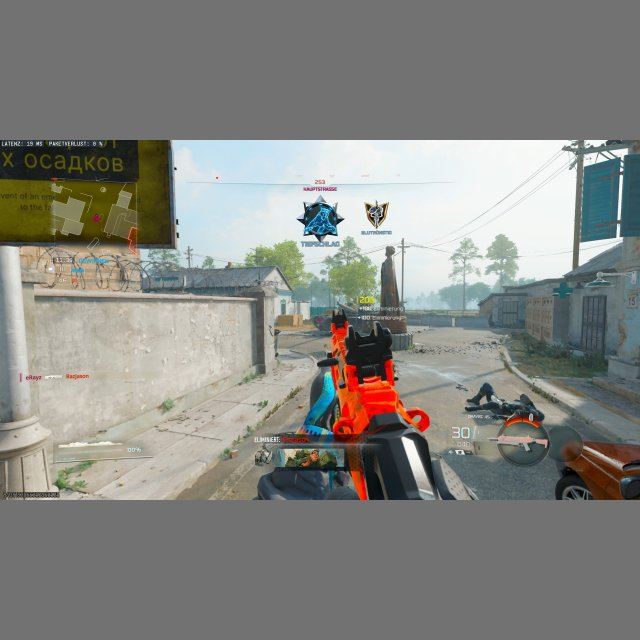player: (127, 225, 139, 253)
